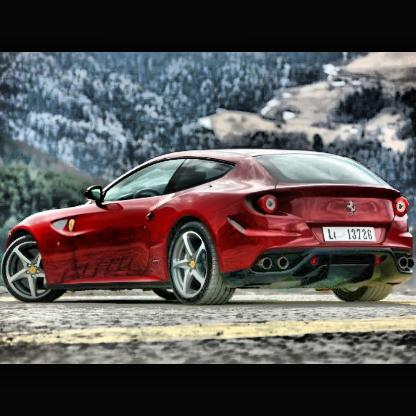Ferrari FF Coupe 2012: (2, 149, 416, 310)
